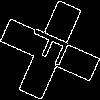F: (25, 25, 79, 71)
